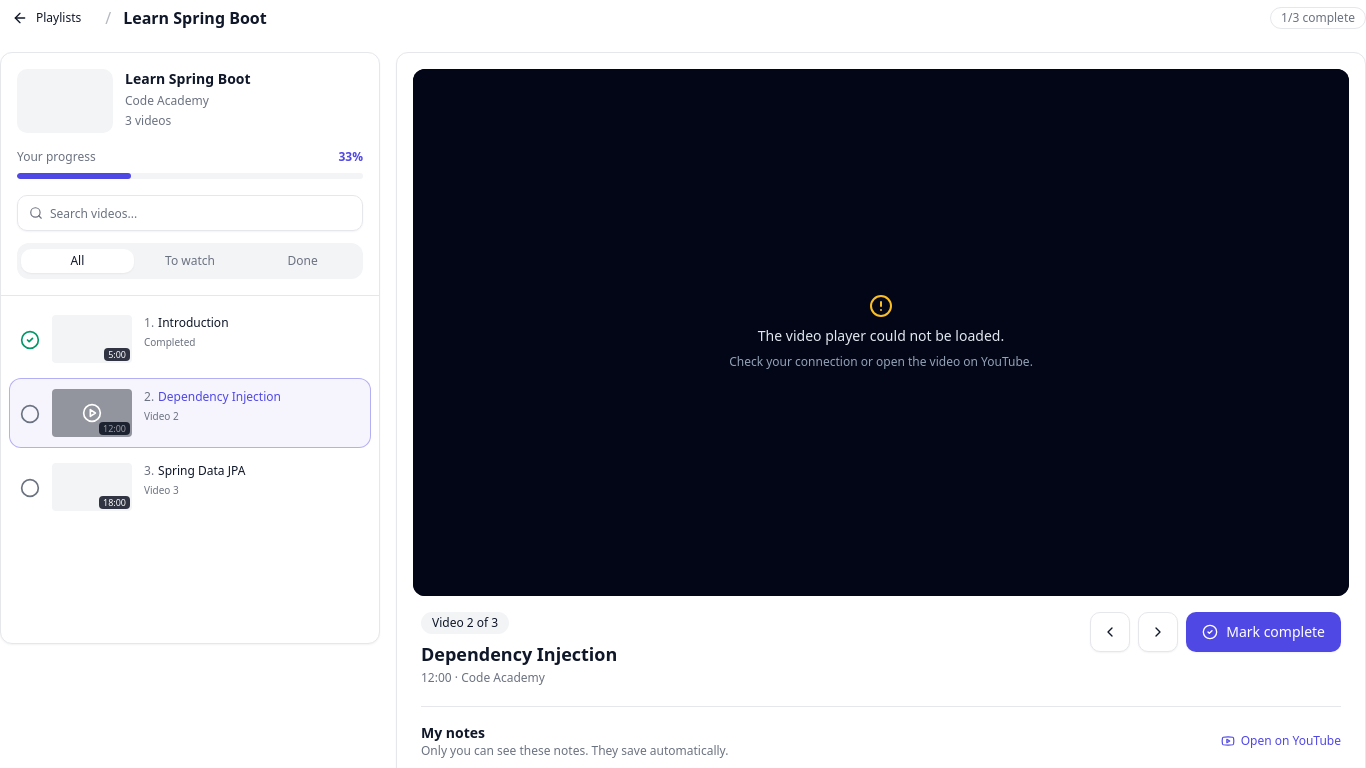
Test case: learning page › supports filtering videos by search term and status
Check: the heading "Dependency Injection" is shown, box [421, 642, 617, 666]
Type "data" into the field labelled "Search videos..." at (190, 213), box [17, 195, 363, 231]
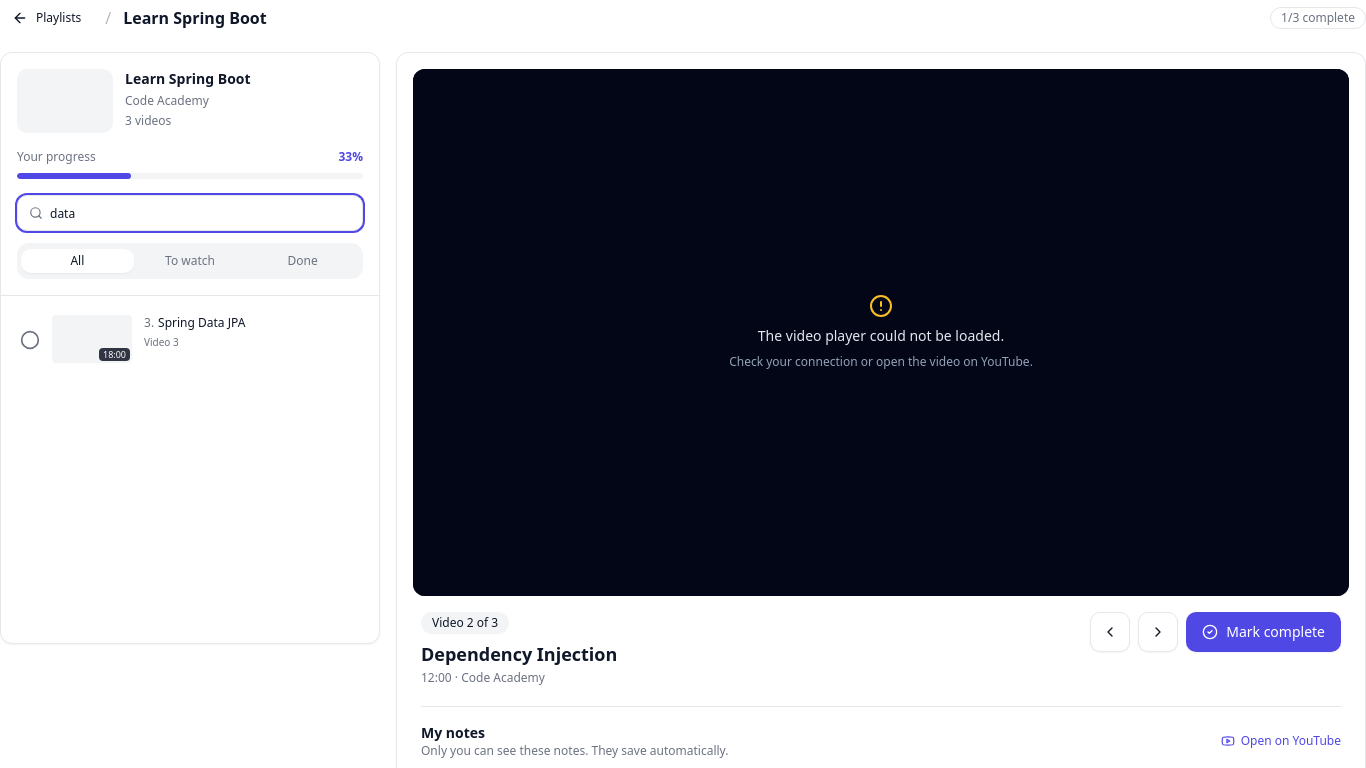
Check: the text "Spring Data JPA" is shown, box [158, 314, 245, 331]
Check: the button "Introduction" is gone
